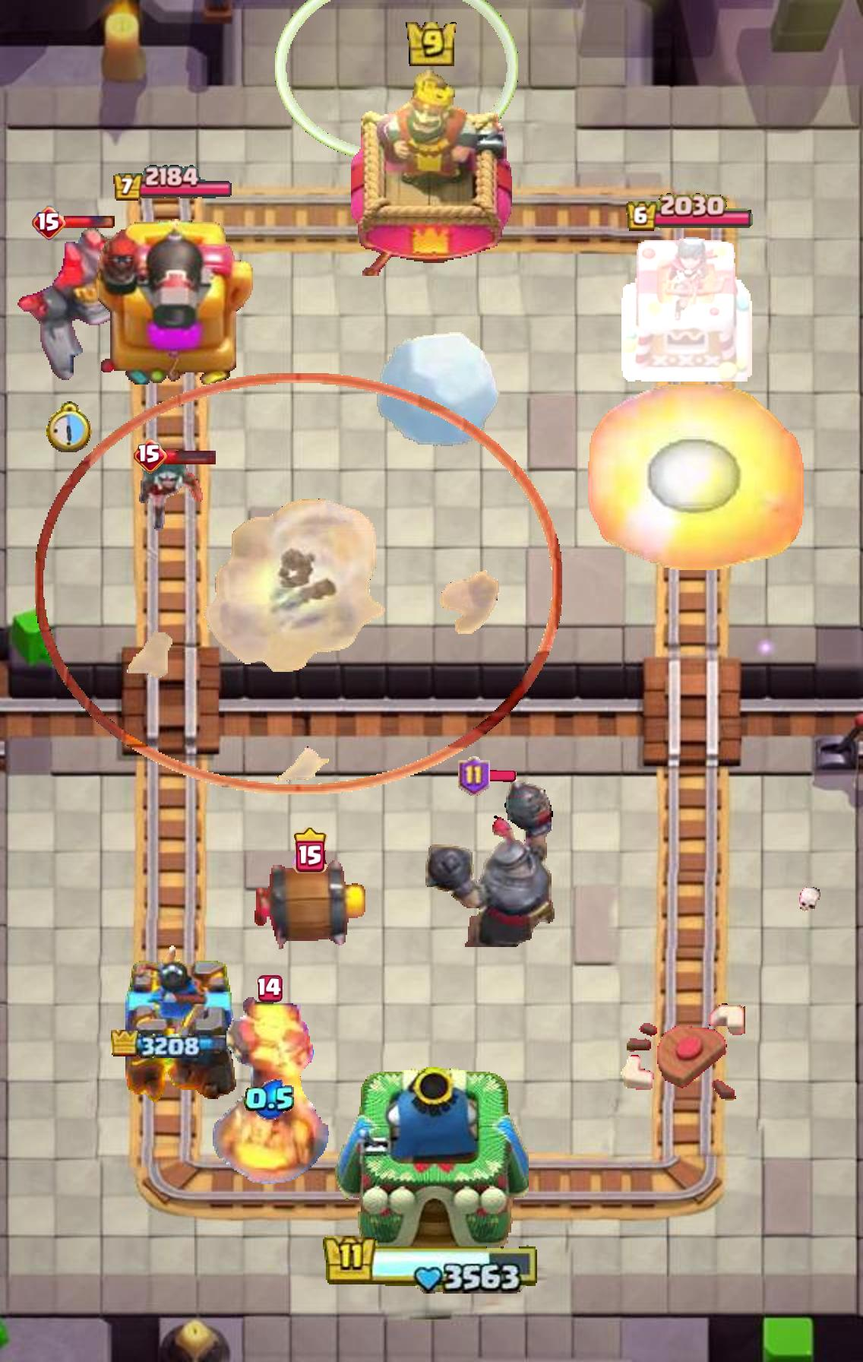bar: (163, 447, 217, 465), (64, 215, 115, 230), (487, 770, 516, 782)
bar-level: (292, 827, 328, 873), (458, 756, 490, 796), (32, 205, 67, 240), (133, 439, 168, 474), (257, 974, 284, 1002)
